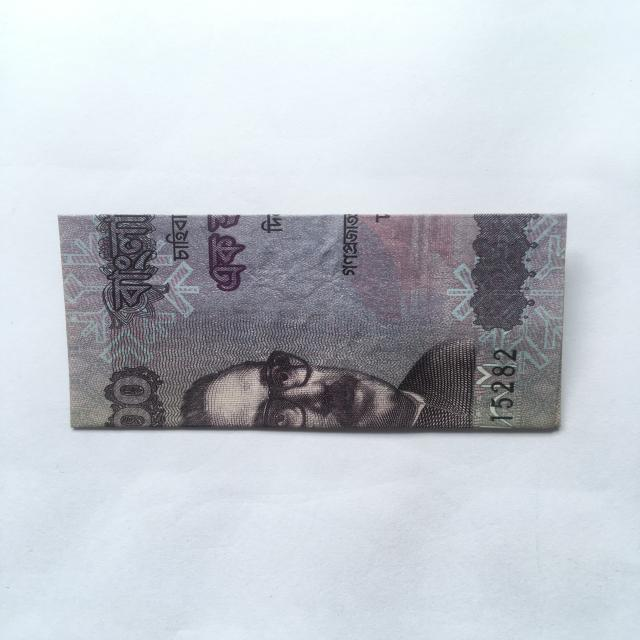Taka: (58, 207, 570, 442)
